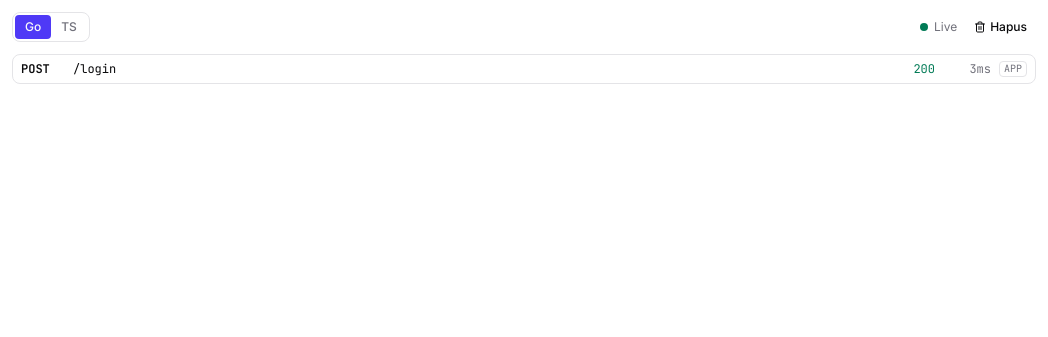
Inspector › detail: cookies tab shows parsed Set-Cookie attributes, body is pretty, raw is HTTP text
Click the button "POST /login 200 3ms app" at (95, 69), box [13, 55, 1035, 83]
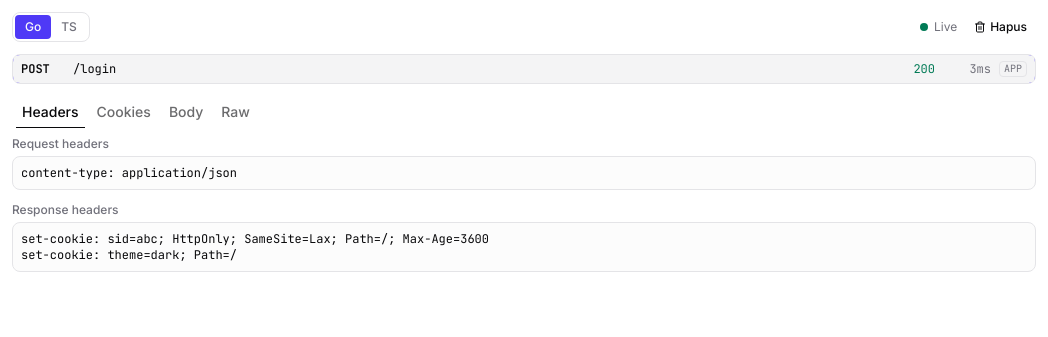
Click the tab "Cookies" at (124, 112), box [90, 100, 158, 124]
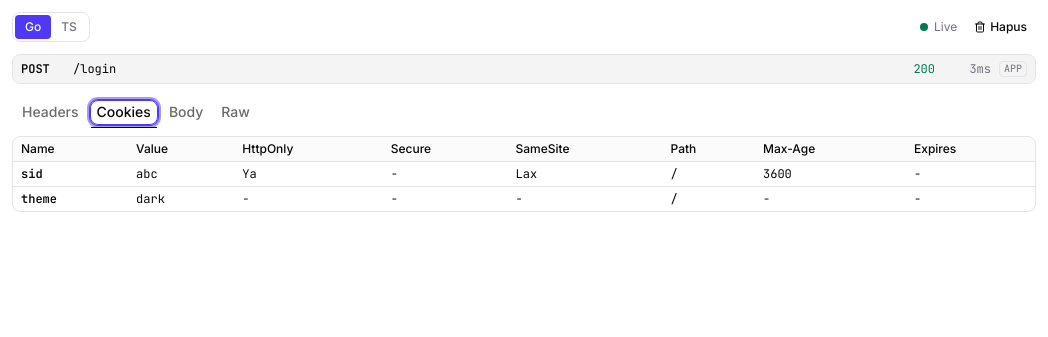
Check: the row "sid abc Ya - Lax / 3600 -" is shown, box [13, 162, 1035, 186]
Check: the number of rows is 3, box [13, 137, 1035, 161]; [13, 162, 1035, 186]; [13, 186, 1035, 211]
Click the tab "Body" at (186, 112), box [162, 100, 210, 124]
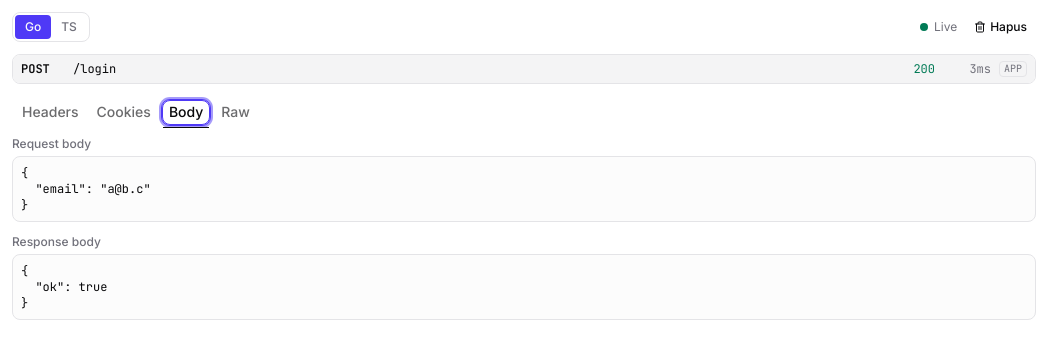
Check: the text "{ \"email\": \"a@b.c\" }" is shown, box [12, 156, 1036, 222]
Click the tab "Raw" at (236, 112), box [214, 100, 257, 124]
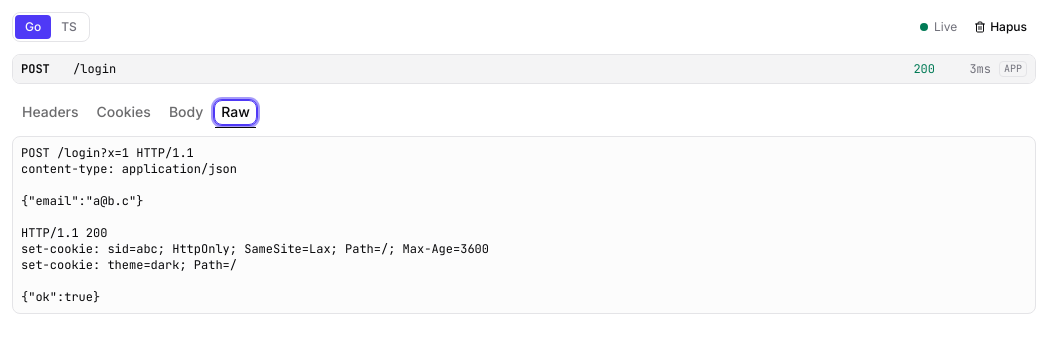
Check: the text "set-cookie: theme=dark; Path=/" is shown, box [21, 145, 489, 305]
